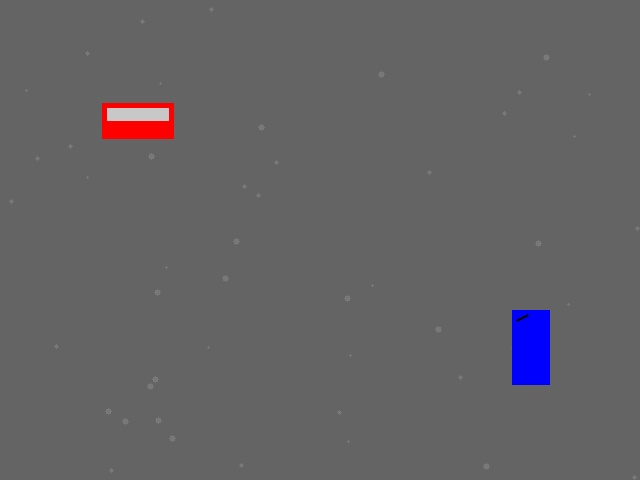car: (102, 103, 173, 138)
motorcycle: (512, 310, 549, 384)
